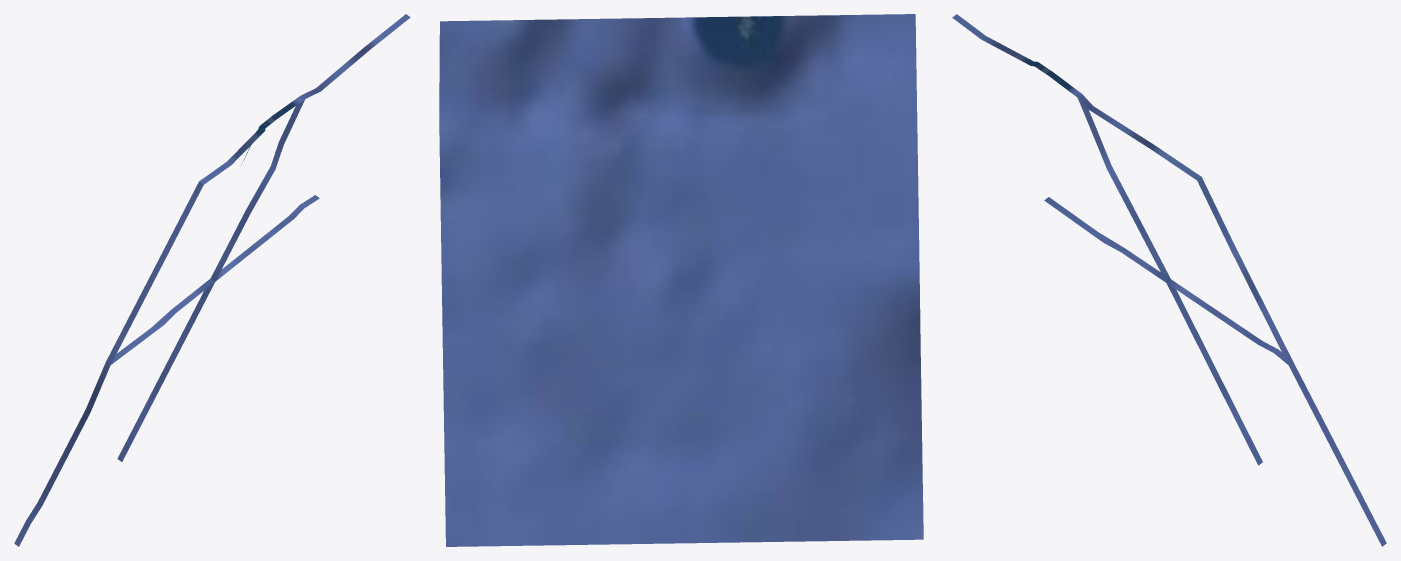
3 views of the same model, side by side, from view 1: azimuth 30°, elevation 25°; view 2: azimuth 150°, elevation 25°; view 3: azimuth 270°, elevation 25° (orthographic). The views are drawn at different scales.
Size of the model in its own units: 19542 by 17949 by 16836.
1 material, 1 textured.
